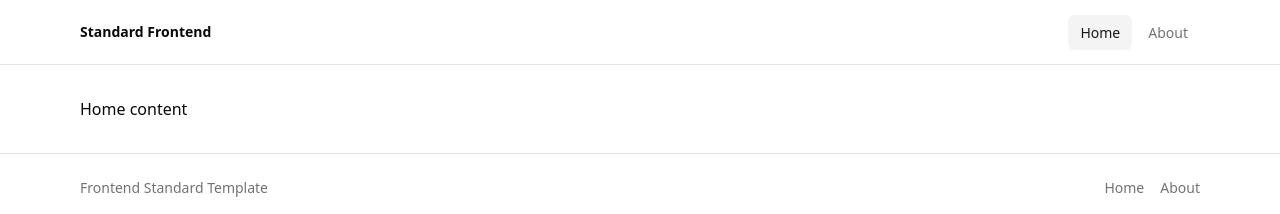
Test case: AppShell › navigates via the header navigation and parks focus on main content
This screenshot has width=1280, height=214.
Click the link "About" in the row of "Standard Frontend": (1168,32) [1148,23,1188,42]
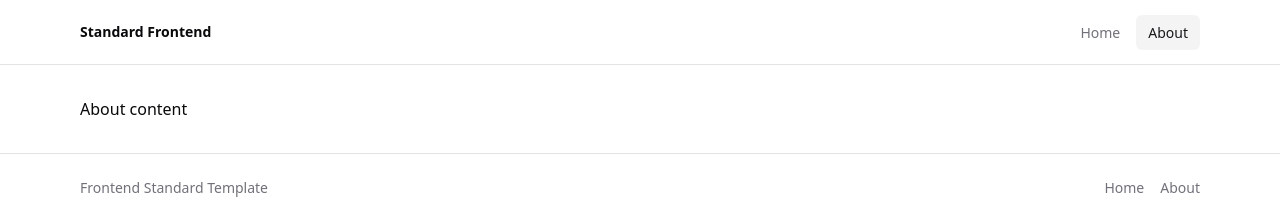
Check: the heading "About content" is shown, box [80,98,187,120]
